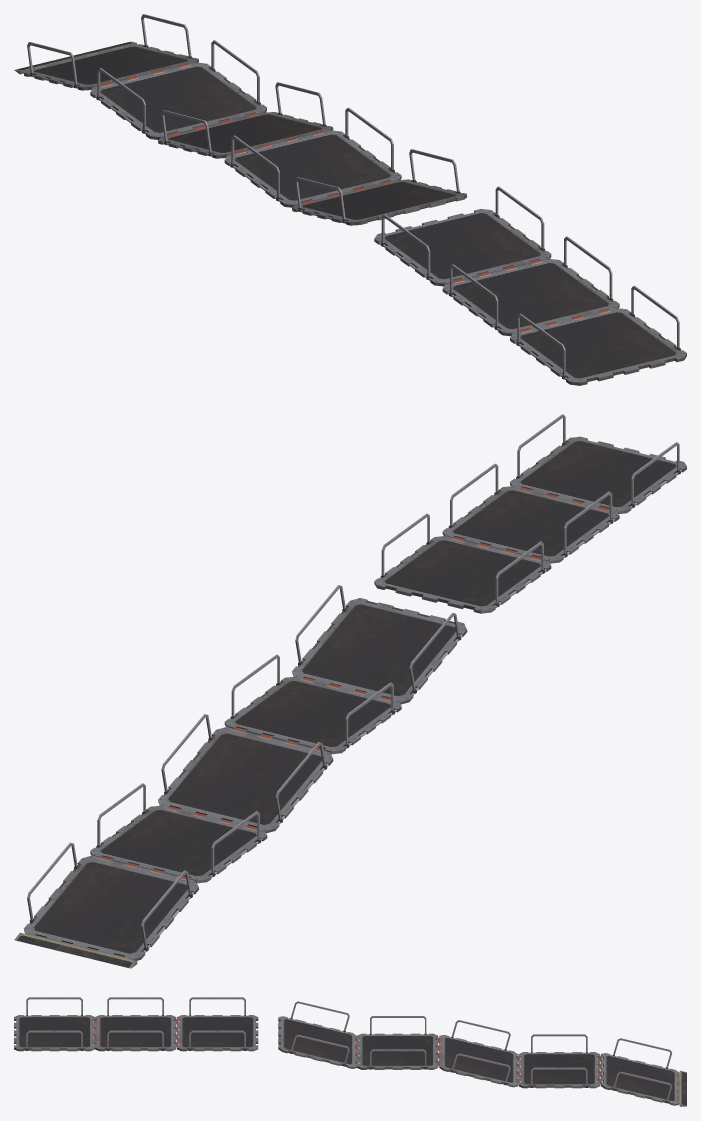
File: OutsideRamp.dae
3 views of the same model, one above another, from view 1: azimuth 30°, elevation 25°; view 2: azimuth 150°, elevation 25°; view 3: azimuth 270°, elevation 25° (orthographic). The views are drawn at different scales.
Parts seen in each view (by area): view 1: OutsideRamp; view 2: OutsideRamp; view 3: OutsideRamp.
Boxes of the visible parts, x1,y1,x2,y2 form: OutsideRamp: (14, 14, 686, 385); OutsideRamp: (14, 414, 686, 968); OutsideRamp: (14, 997, 686, 1106).
Bounding box in the file's own units: 4.03 × 33.13 × 4.1.
